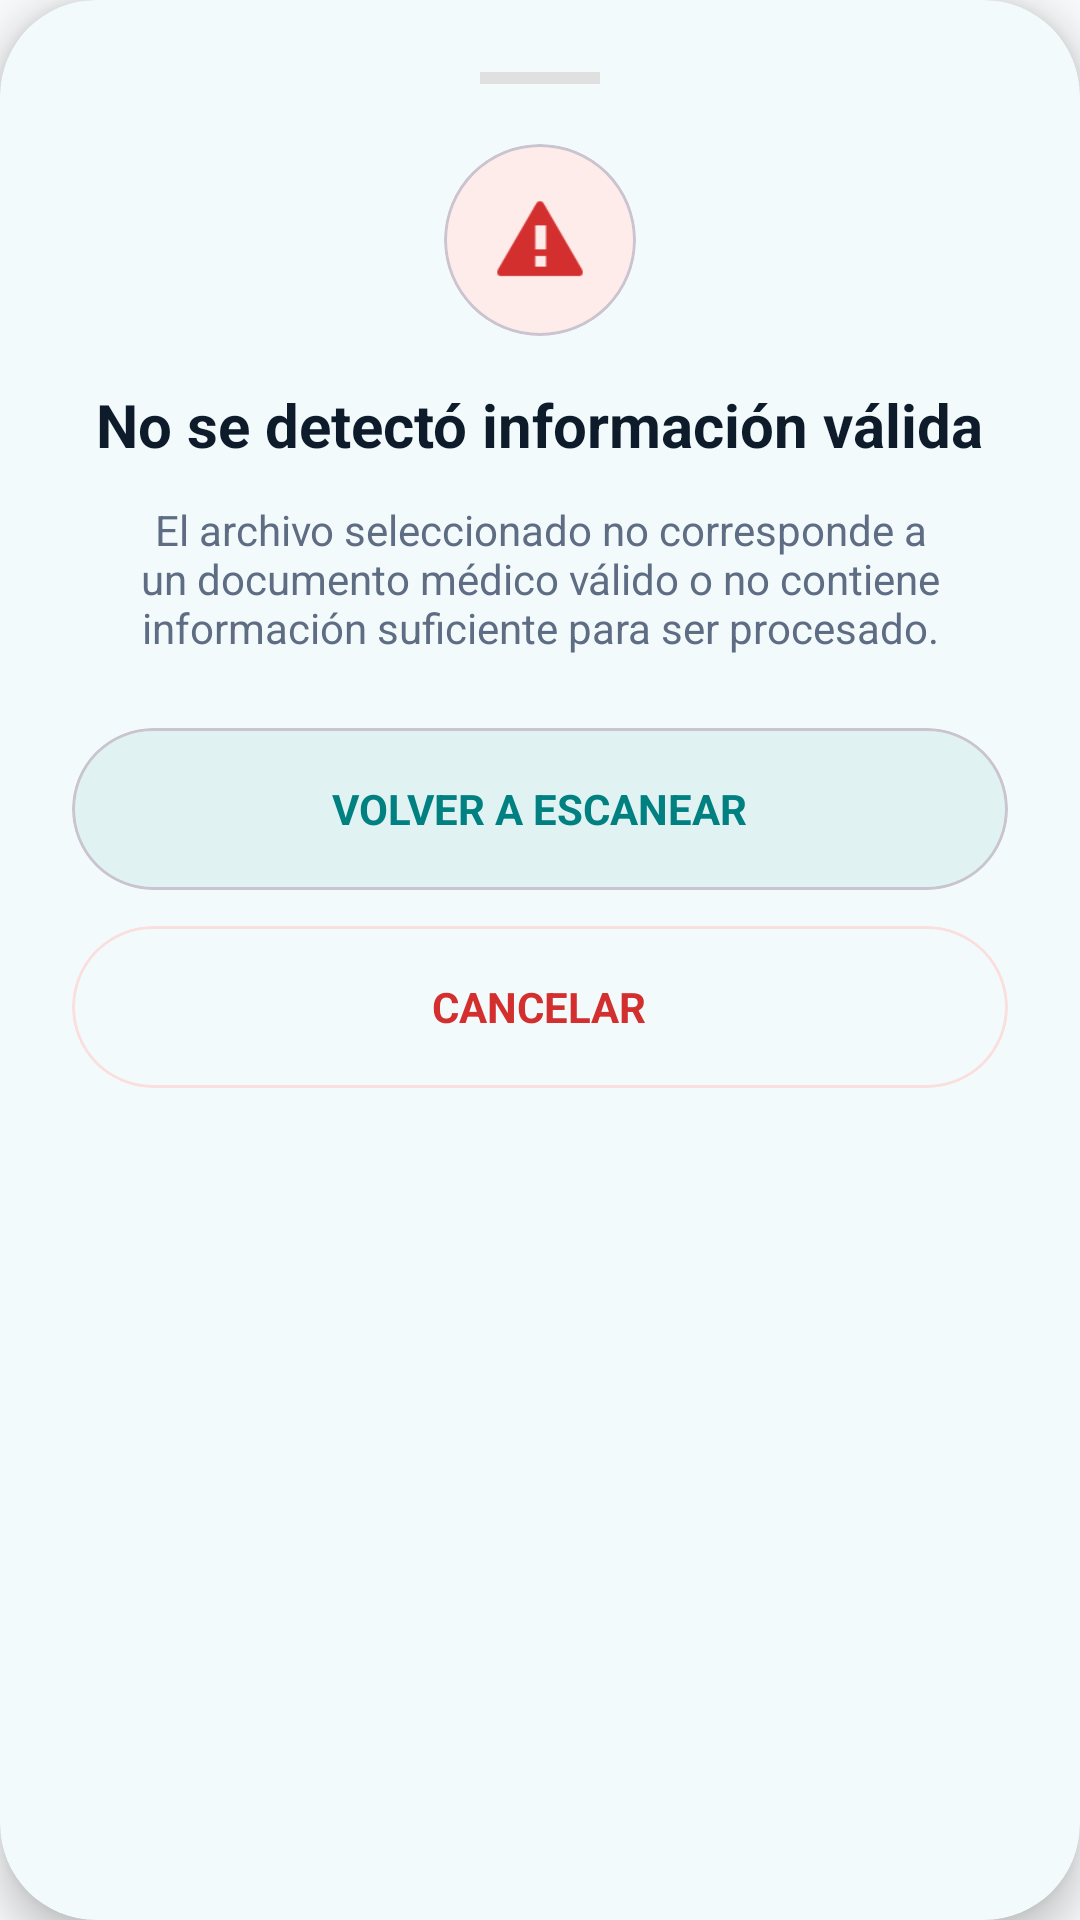

Icon bounding boxes for this 1080px x 1920px phone screenshot, format BBox(x1, y1, x2, y2):
error: BBox(497, 201, 583, 276)
